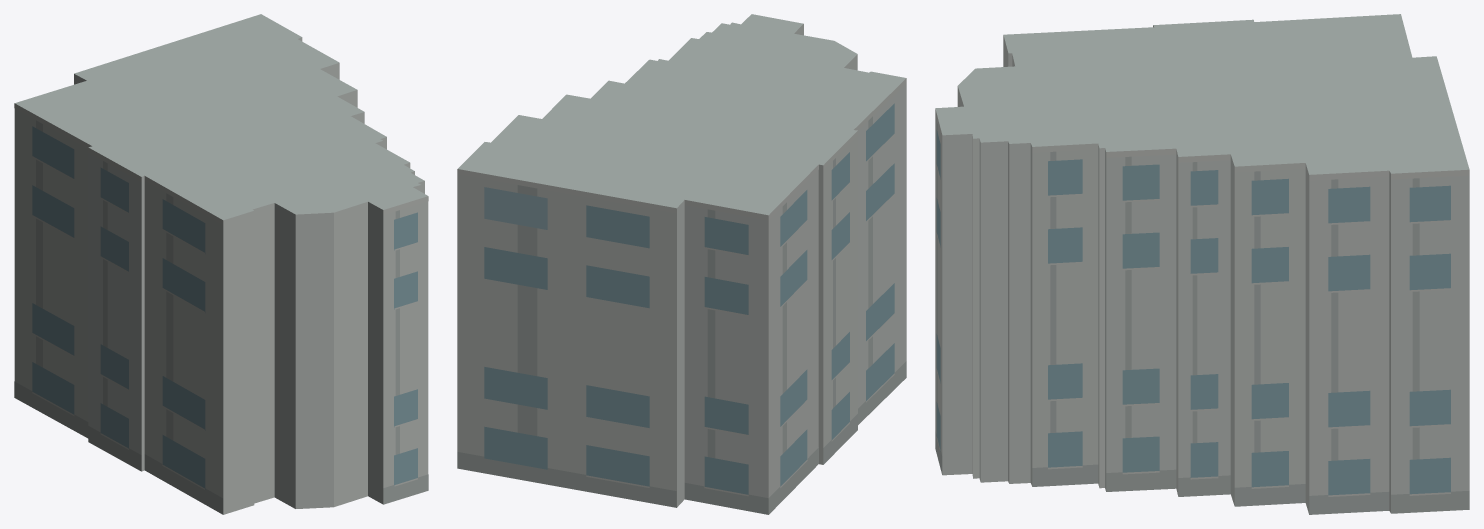
Rendered from survey-upis-32945378.glb.
The picture shows the model from 3 angles, left to right: view 1: azimuth 30°, elevation 25°; view 2: azimuth 150°, elevation 25°; view 3: azimuth 270°, elevation 25°; orthographic projection. The views are drawn at different scales.
Parts seen in each view (by area): view 1: survey-upis-32945378.tmp; view 2: survey-upis-32945378.tmp; view 3: survey-upis-32945378.tmp.
Boxes of the visible parts, x1,y1,x2,y2 form: survey-upis-32945378.tmp: (14,14,428,514); survey-upis-32945378.tmp: (457,14,906,514); survey-upis-32945378.tmp: (935,14,1469,514).
Size of the model in its own units: 14.1 by 13.9 by 19.8.
